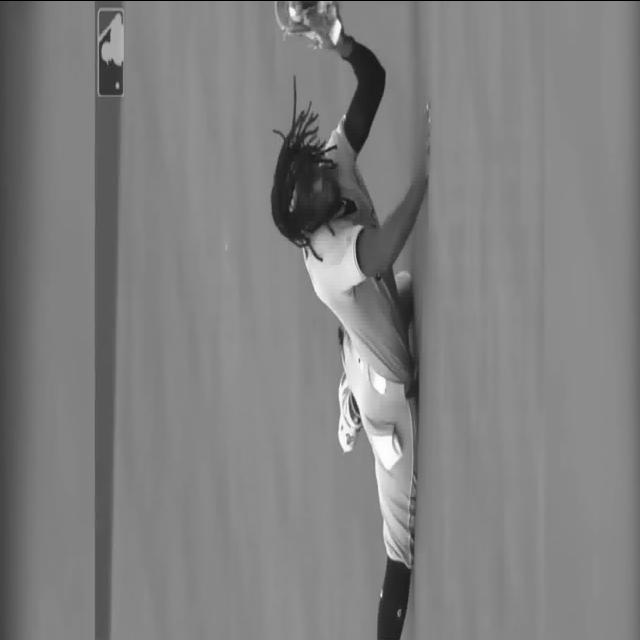baseball: (288, 6, 300, 24)
baseball_glove: (267, 0, 337, 53)
shoe: (339, 364, 359, 456)
